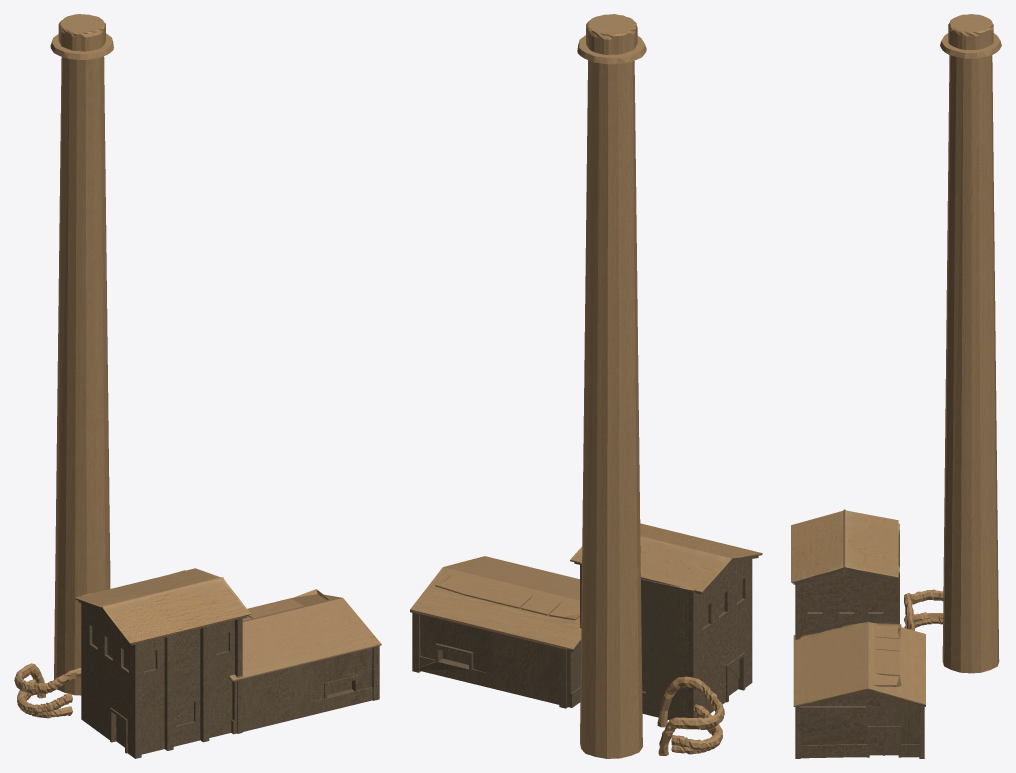
The model's file is factory_chimney.glb.
3 renders of one model, left to right at view 1: azimuth 30°, elevation 25°; view 2: azimuth 150°, elevation 25°; view 3: azimuth 270°, elevation 25°, orthographic. The views are drawn at different scales.
Visible parts, largest first — view 1: tripo_node_5daa5766-5991-45d6-ba6f-6a9175161d52; view 2: tripo_node_5daa5766-5991-45d6-ba6f-6a9175161d52; view 3: tripo_node_5daa5766-5991-45d6-ba6f-6a9175161d52.
Part boxes in pixels (<box>): tripo_node_5daa5766-5991-45d6-ba6f-6a9175161d52: <box>14,14,381,758</box>; tripo_node_5daa5766-5991-45d6-ba6f-6a9175161d52: <box>410,14,762,758</box>; tripo_node_5daa5766-5991-45d6-ba6f-6a9175161d52: <box>791,14,1001,758</box>.
Size of the model in its own units: 0.459 by 0.998 by 0.2988.
Materials: 1 (1 with a texture image).
